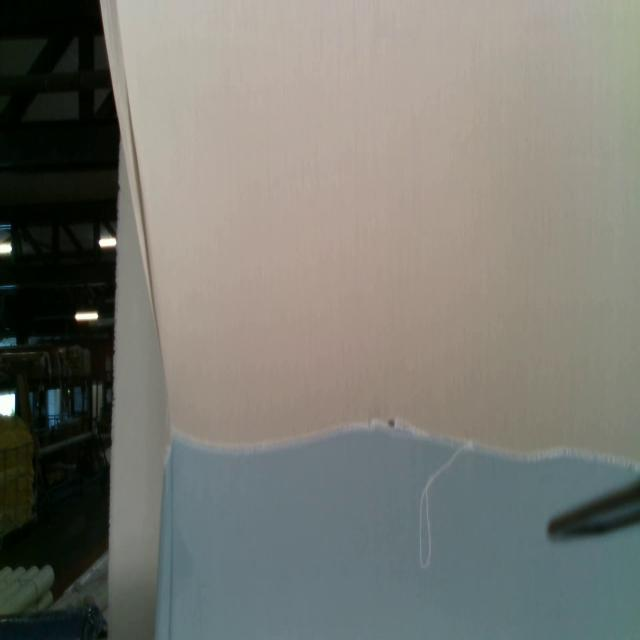hole: (387, 418, 397, 428)
